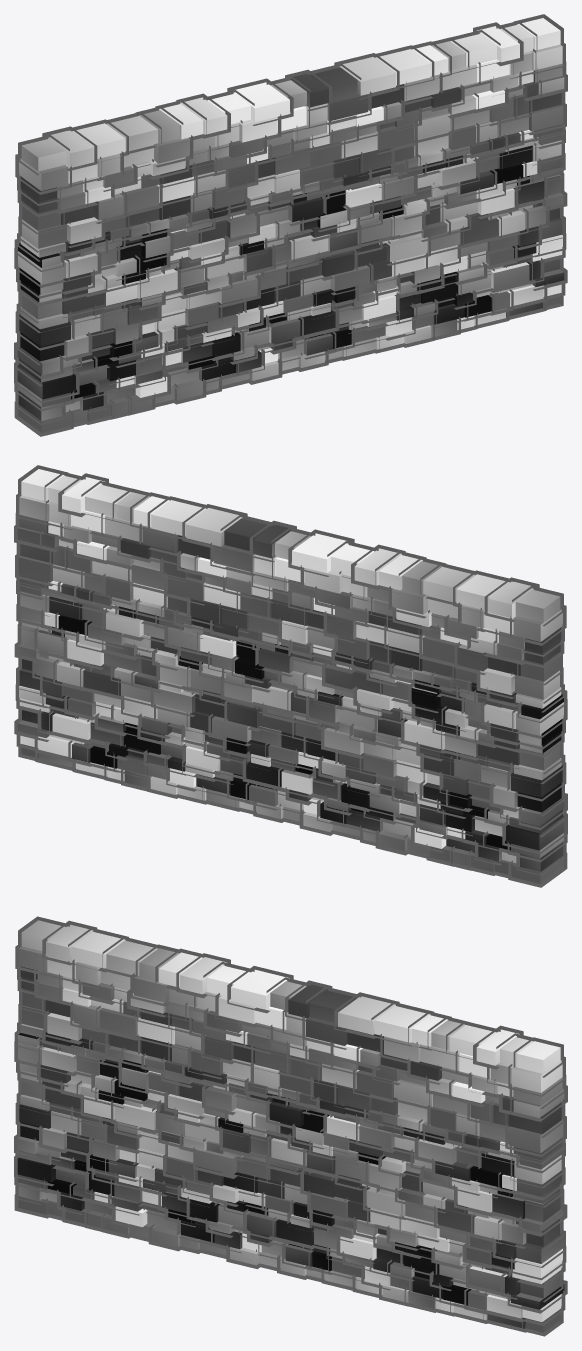
File: Wall_Full.glb
3 renders of one model, top to bottom at view 1: azimuth 30°, elevation 25°; view 2: azimuth 150°, elevation 25°; view 3: azimuth 330°, elevation 25°, orthographic.
Parts seen in each view (by area): view 1: Wall; view 2: Wall; view 3: Wall.
Part boxes in pixels (bbox=[...]): Wall: bbox=[14, 14, 567, 436]; Wall: bbox=[14, 465, 567, 887]; Wall: bbox=[14, 916, 567, 1336].
Bounding box in the file's own units: 30.26 × 15.25 × 2.75.
2 materials, 1 textured.
